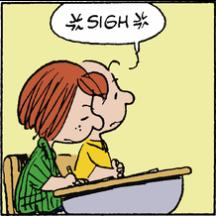charlie: (72, 58, 138, 184)
